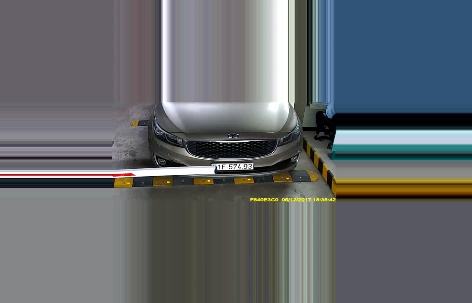plate: (212, 161, 256, 172)
